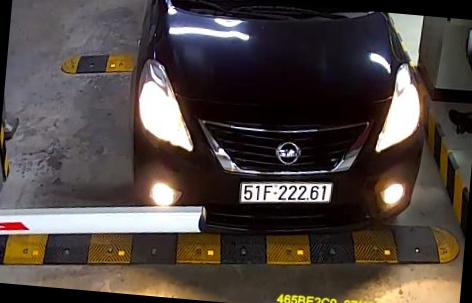plate: (236, 177, 332, 209)
